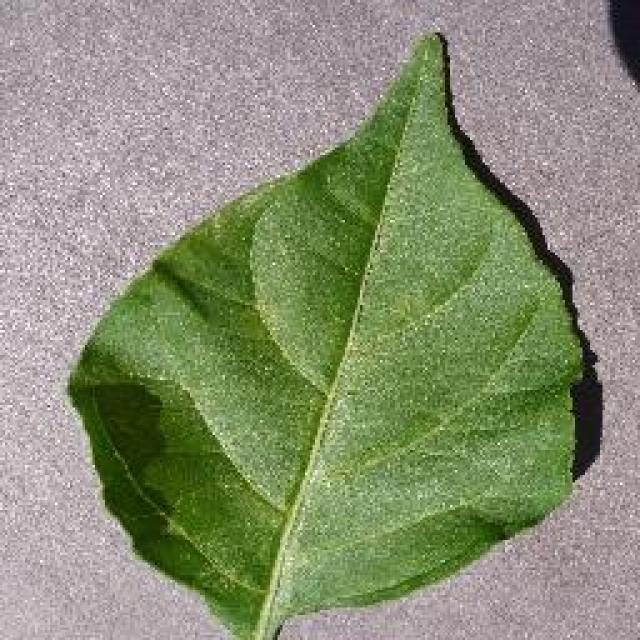Chilli_Healthy: (65, 28, 587, 638)
